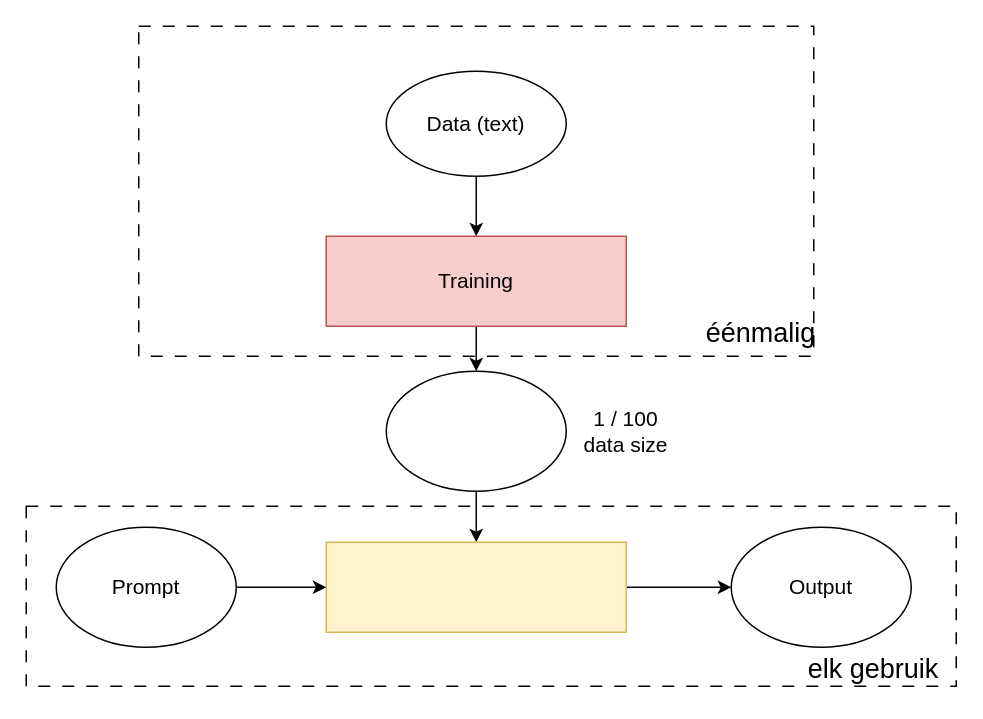
Some shapes in this 983 by 719 pixel diagram are drawn without their labels. The shapes that lost their labels are listed below. From the top down, each one's box as (x1, y1, x2, y2) in pixels, then its label:
(385, 370, 566, 491): Model parameters
(325, 541, 626, 632): Testing / inference
